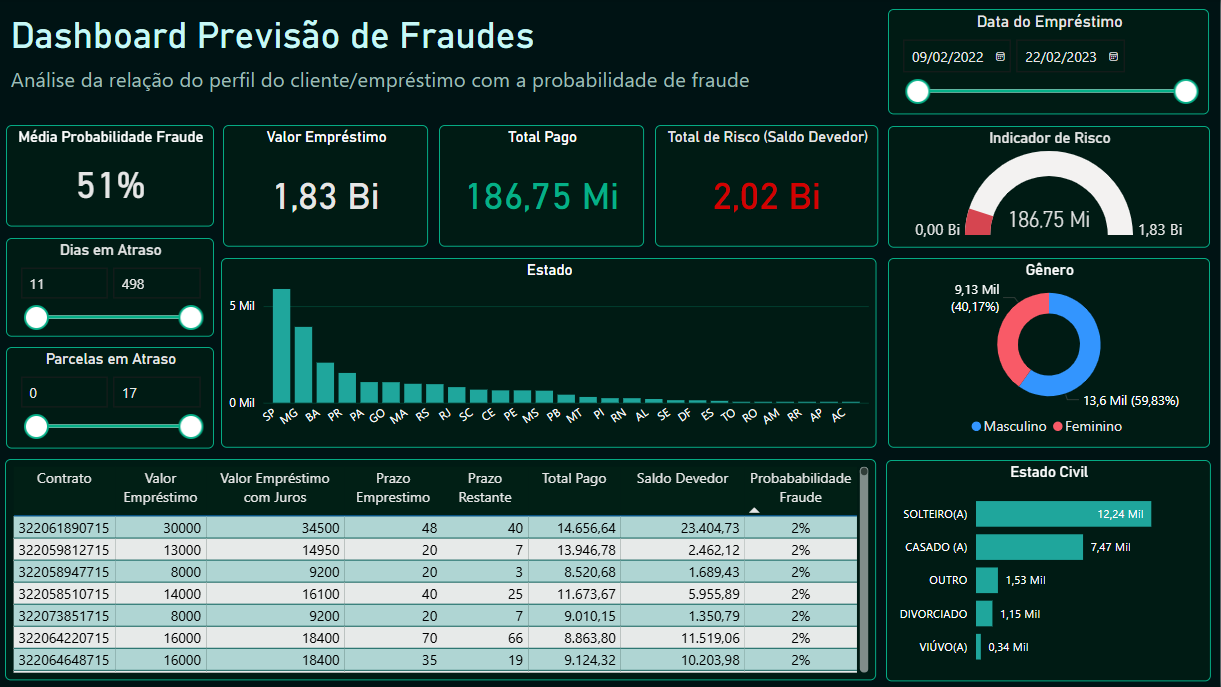

Layout of this report page (visuals, bound fields, positions):
{"tool":"powerbi","page":{"name":"dashboard","canvas":[1280,720],"ordinal":0},"visuals":[{"type":"slicer","title":"Data do Empréstimo","fields":{"Values":["dados.Data_Contratacao"]},"box":[932.5,11.6,335.4,109.9],"z":0},{"type":"slicer","title":"Parcelas em Atraso","fields":{"Values":["dados.QT_Parcelas_Atraso"]},"box":[13,364.3,216.9,105.5],"z":1000},{"type":"slicer","title":"Dias em Atraso","fields":{"Values":["dados.QT_Dias_Atraso"]},"box":[13,250.1,216.9,102.7],"z":2000},{"type":"card","title":"Valor Empréstimo","fields":{"Values":["Sum(dados.VL_Emprestimo)"]},"box":[238.6,133,214,127.2],"z":4000},{"type":"card","title":"Total Pago","fields":{"Values":["Sum(dados.Total_Pago)"]},"box":[464.1,133,214,127.2],"z":5000},{"type":"card","title":"Total de Risco (Saldo Devedor)","fields":{"Values":["Sum(dados.Saldo_Devedor)"]},"box":[689.6,133,232.8,127.2],"z":6000},{"type":"gauge","title":"Indicador de Risco","fields":{"MaxValue":["Sum(dados.VL_Emprestimo)"],"Y":["Sum(dados.Total_Pago)"]},"box":[933.2,133.5,335.8,126.6],"z":7000},{"type":"donutChart","title":"Gênero","fields":{"Y":["Count(dados.Contrato)"],"Category":["dados.Genero"]},"box":[933.2,271.1,335.8,198.2],"z":8000},{"type":"barChart","title":"Estado Civil","fields":{"Category":["dados.Estado_Civil"],"Y":["Count(dados.Contrato)"]},"box":[930.4,481.7,338.6,231.2],"z":9000},{"type":"columnChart","title":"Estado","fields":{"Y":["Count(dados.Contrato)"],"Category":["dados.UF_Cliente"]},"box":[237.1,271.8,683.9,198.1],"z":10000},{"type":"tableEx","fields":{"Values":["dados.Contrato","Sum(dados.VL_Emprestimo)","Sum(dados.VL_Emprestimo_ComJuros)","Sum(dados.Prazo_Emprestimo)","Sum(dados.Prazo_Restante)","Sum(dados.Total_Pago)","Sum(dados.Saldo_Devedor)","Sum(dados.PROBABILIDADES)"]},"box":[11.6,481.4,909.4,231.3],"z":11000},{"type":"card","title":"Média Probabilidade Fraude","fields":{"Values":["Avg(dados.PROBABILIDADES)"]},"box":[13,133,216.9,105.5],"z":11001},{"type":"textbox","box":[13,11.6,566.7,54.9],"z":11002},{"type":"textbox","box":[13,65.1,793.7,39],"z":11003}]}

Visuals, with their boxes in screenshot pixels (x1, y1, x2, y2), scaled from the page's 1280x720 canvas onto the 1221x687 screenshot:
"Data do Empréstimo" slicer: {"left": 890, "top": 11, "right": 1209, "bottom": 116}
"Parcelas em Atraso" slicer: {"left": 12, "top": 348, "right": 219, "bottom": 448}
"Dias em Atraso" slicer: {"left": 12, "top": 239, "right": 219, "bottom": 337}
"Valor Empréstimo" card: {"left": 228, "top": 127, "right": 432, "bottom": 248}
"Total Pago" card: {"left": 443, "top": 127, "right": 647, "bottom": 248}
"Total de Risco (Saldo Devedor)" card: {"left": 658, "top": 127, "right": 880, "bottom": 248}
"Indicador de Risco" gauge: {"left": 890, "top": 127, "right": 1211, "bottom": 248}
"Gênero" donutChart: {"left": 890, "top": 259, "right": 1211, "bottom": 448}
"Estado Civil" barChart: {"left": 888, "top": 460, "right": 1211, "bottom": 680}
"Estado" columnChart: {"left": 226, "top": 259, "right": 879, "bottom": 448}
tableEx - dados.Contrato x Sum(dados.VL_Emprestimo): {"left": 11, "top": 459, "right": 879, "bottom": 680}
"Média Probabilidade Fraude" card: {"left": 12, "top": 127, "right": 219, "bottom": 228}
textbox: {"left": 12, "top": 11, "right": 553, "bottom": 63}
textbox: {"left": 12, "top": 62, "right": 770, "bottom": 99}
